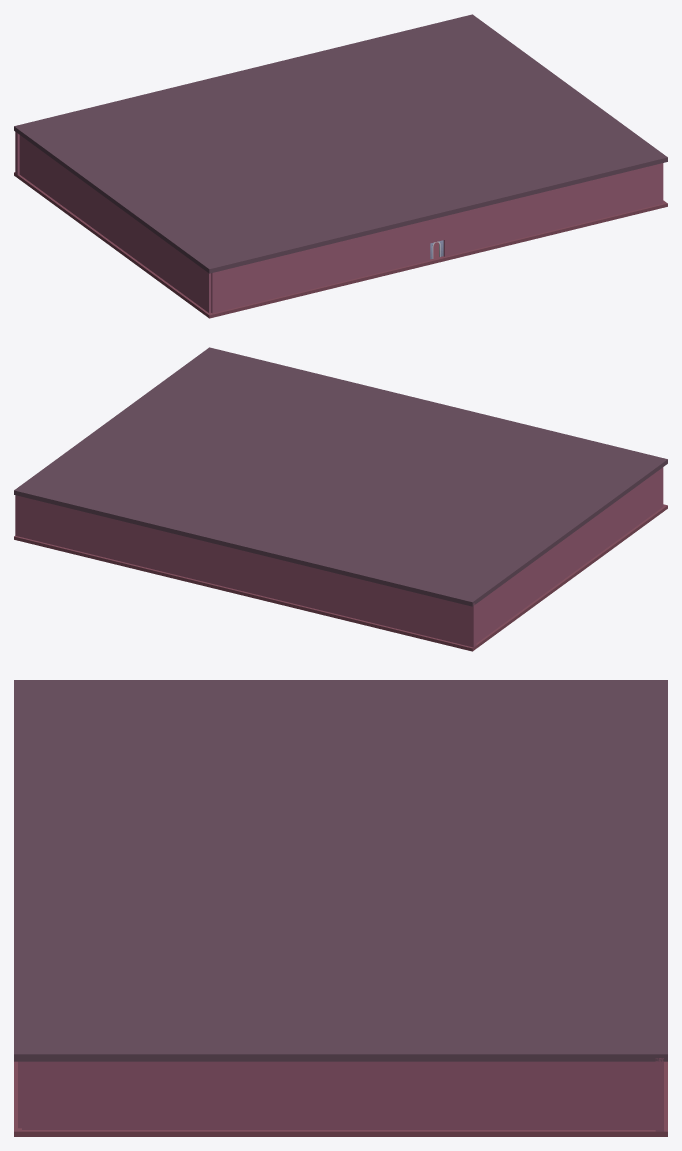
The model's file is world.glb.
The picture shows the model from 3 angles, top to bottom: view 1: azimuth 30°, elevation 25°; view 2: azimuth 150°, elevation 25°; view 3: azimuth 270°, elevation 25°; orthographic projection. The views are drawn at different scales.
Visible parts, largest first — view 1: Ceiling, Wall_S_L, Wall_S_R, Wall_W, Terrain; view 2: Ceiling, Wall_N, Wall_W, Terrain; view 3: Ceiling, Wall_E, Terrain, Wall_N.
Boxes of the visible parts, bbox=[...] form: Ceiling: bbox=[14, 14, 667, 273]; Wall_S_L: bbox=[211, 220, 430, 313]; Wall_S_R: bbox=[443, 163, 662, 256]; Wall_W: bbox=[19, 135, 211, 312]; Terrain: bbox=[14, 172, 667, 318]; Ceiling: bbox=[14, 347, 667, 606]; Wall_N: bbox=[15, 495, 476, 647]; Wall_W: bbox=[476, 467, 663, 643]; Terrain: bbox=[14, 504, 667, 651]; Ceiling: bbox=[14, 680, 667, 1061]; Wall_E: bbox=[22, 1061, 655, 1129]; Terrain: bbox=[14, 1061, 667, 1136]; Wall_N: bbox=[655, 1058, 663, 1131].
Bounding box in the file's own units: 76.4 × 7.85 × 56.4.
52 materials, 10 textured.
